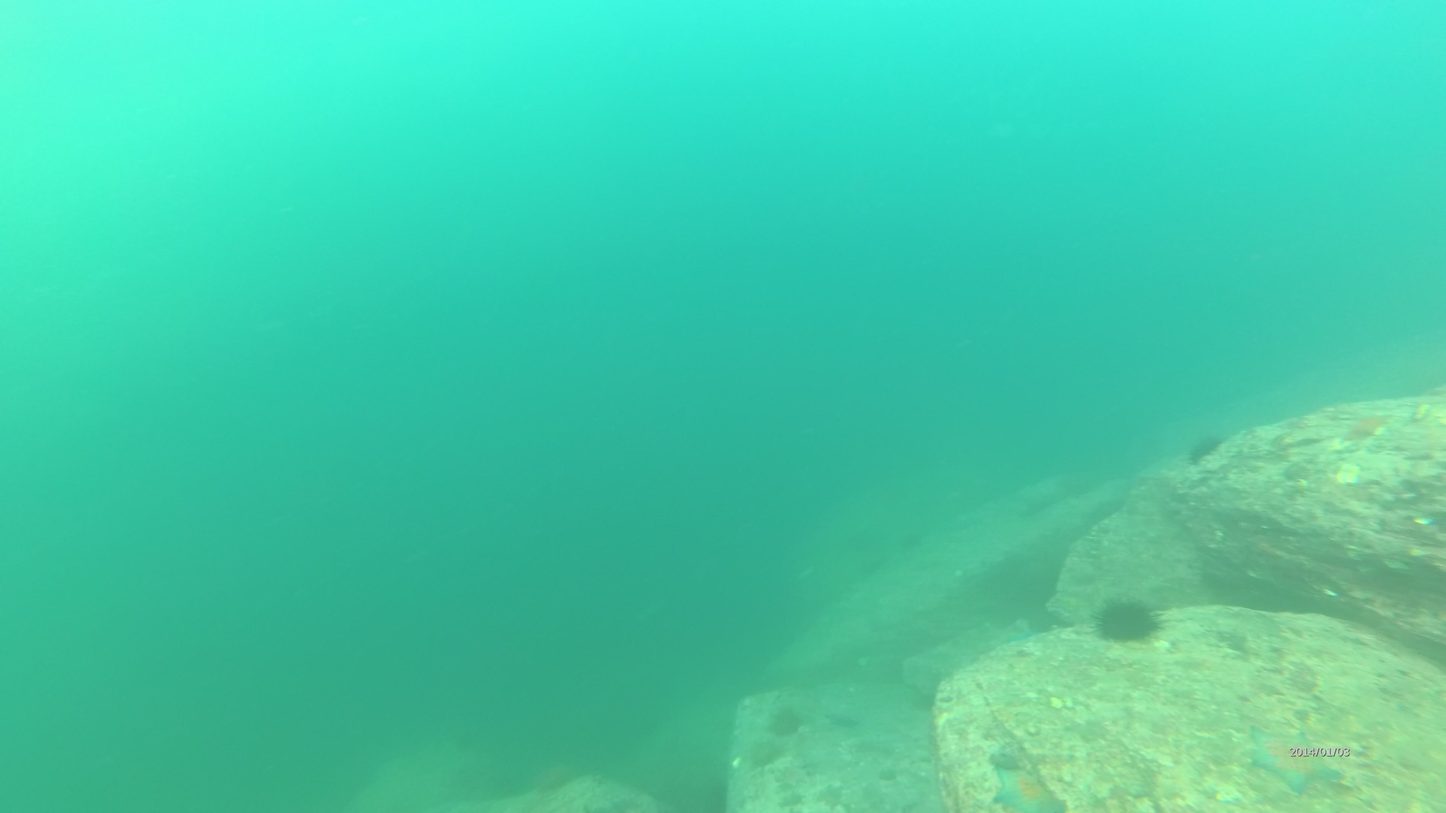holothurian: (1249, 722, 1345, 793), (985, 760, 1067, 813)
starfish: (1096, 597, 1160, 643), (1188, 432, 1230, 468), (765, 702, 808, 737)
